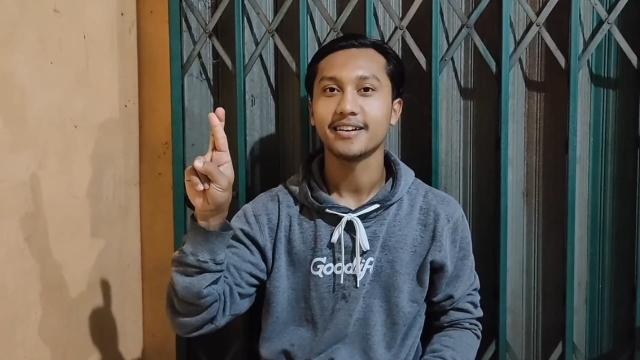R: (180, 102, 246, 216)
